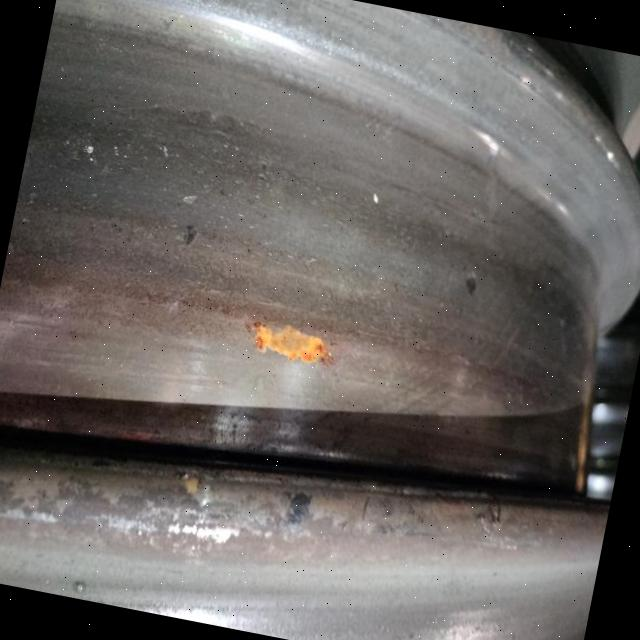Blue hole: (451, 260, 495, 313)
